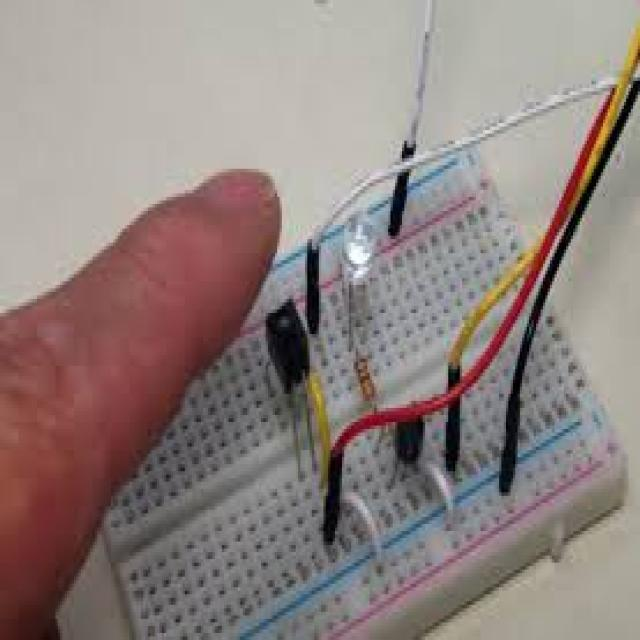capacitor: (353, 350, 377, 405)
